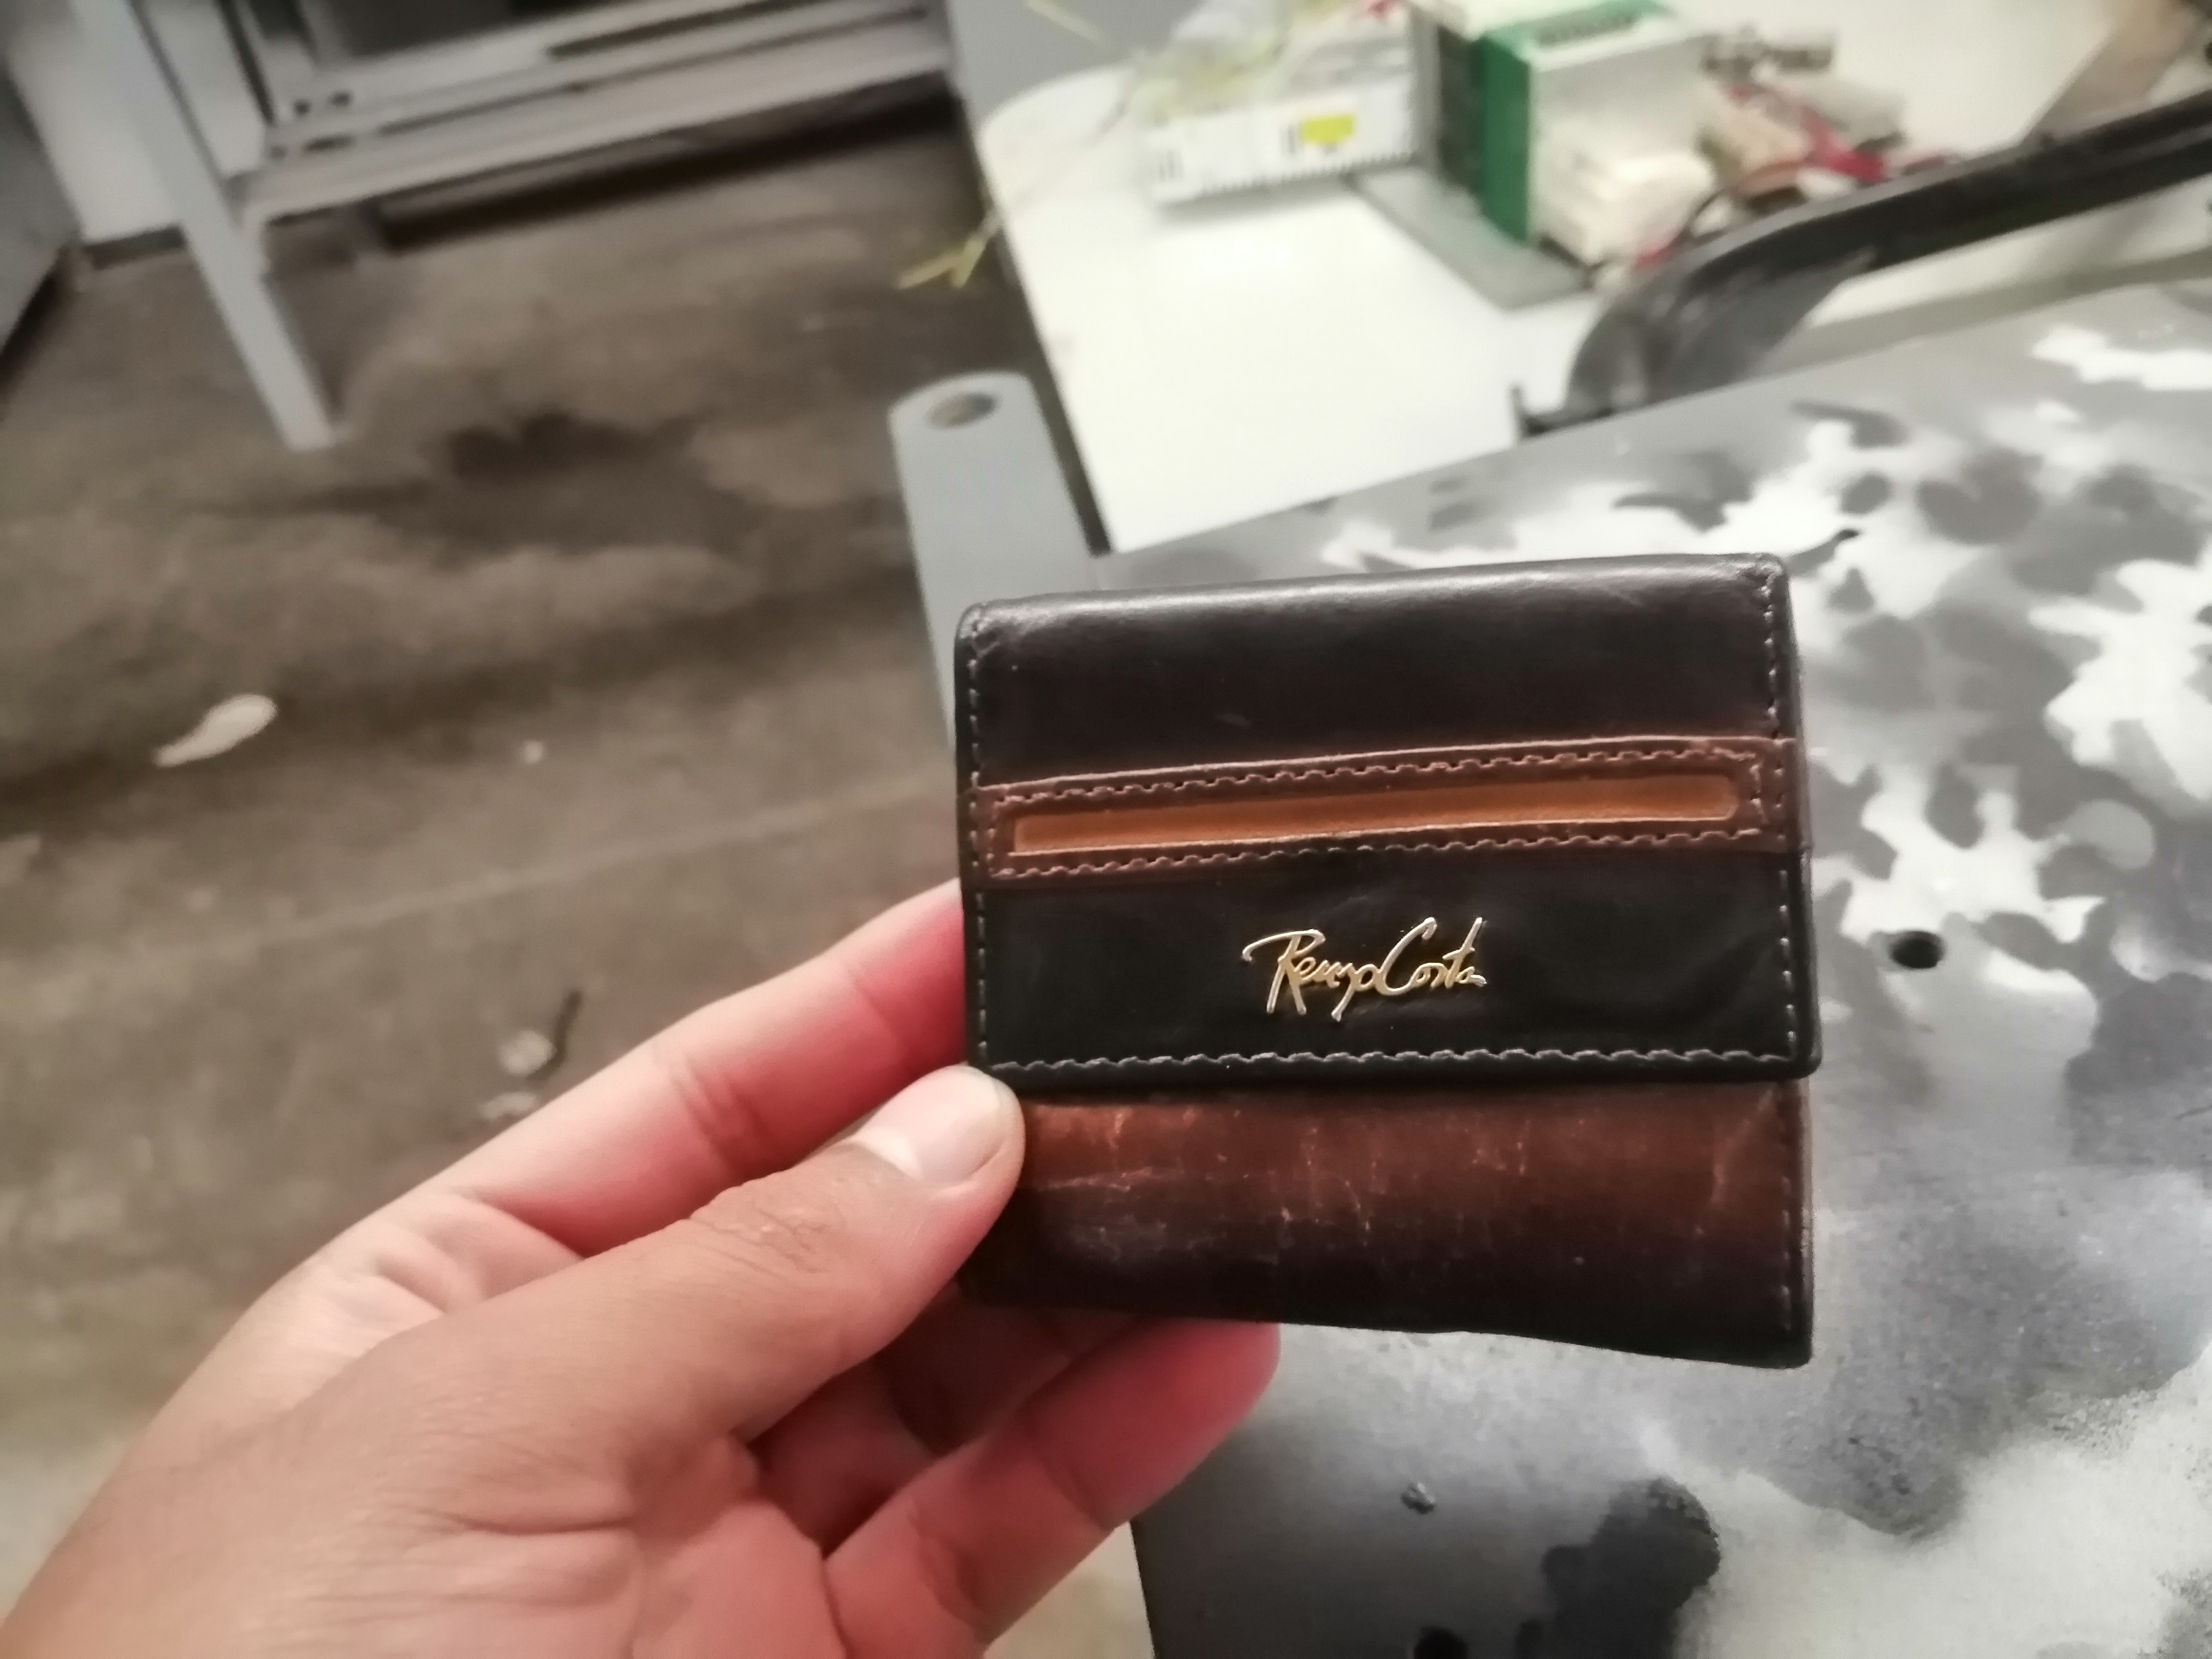monedero: (948, 544, 1836, 1387)
